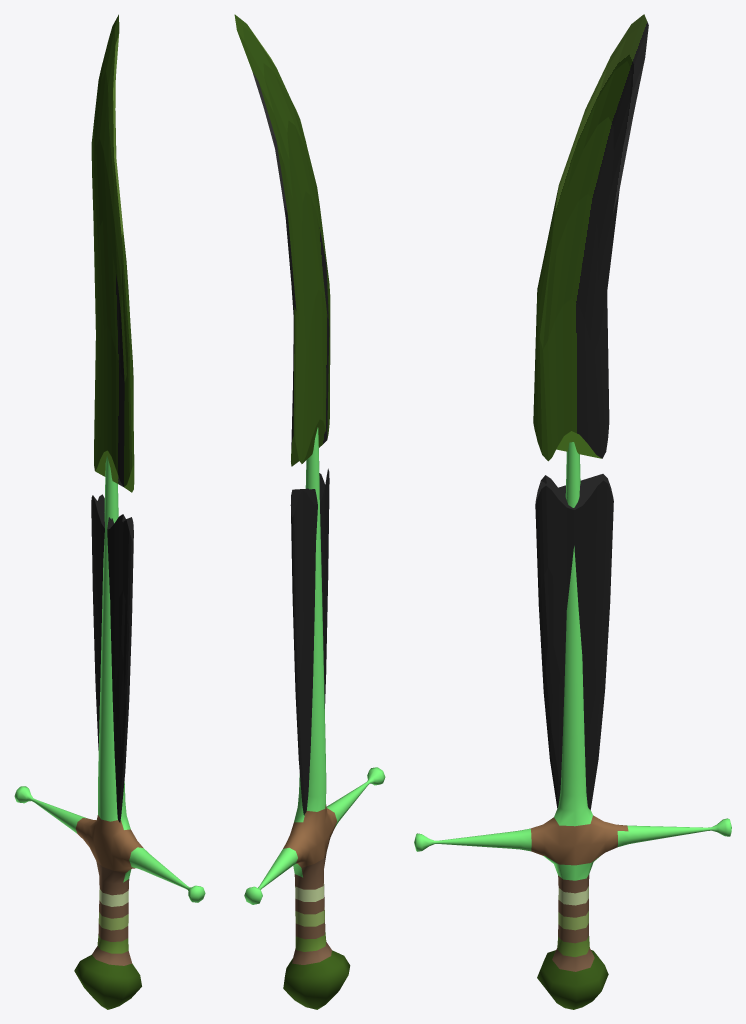
Rendered from final-sword.fbx.
3 views of the same model, side by side, from view 1: azimuth 30°, elevation 25°; view 2: azimuth 150°, elevation 25°; view 3: azimuth 270°, elevation 25° (orthographic). The views are drawn at different scales.
Visible parts, largest first — view 1: Cube.012, Vert; view 2: Cube.012, Vert; view 3: Cube.012, Vert.
Boxes of the visible parts, bbox=[...] form: Cube.012: bbox=[91, 14, 134, 822]; Vert: bbox=[14, 456, 205, 1009]; Cube.012: bbox=[234, 14, 330, 815]; Vert: bbox=[244, 427, 385, 1009]; Cube.012: bbox=[533, 14, 648, 809]; Vert: bbox=[414, 442, 731, 1009].
Size of the model in its own units: 15.42 by 194 by 54.85.
Materials: 2 (2 with a texture image).
